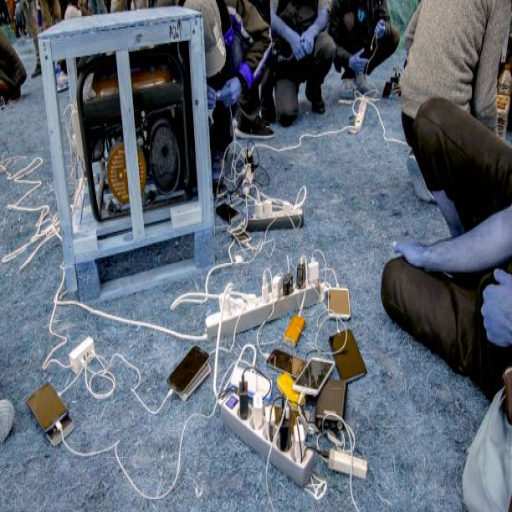portable_generator: (74, 59, 197, 222)
